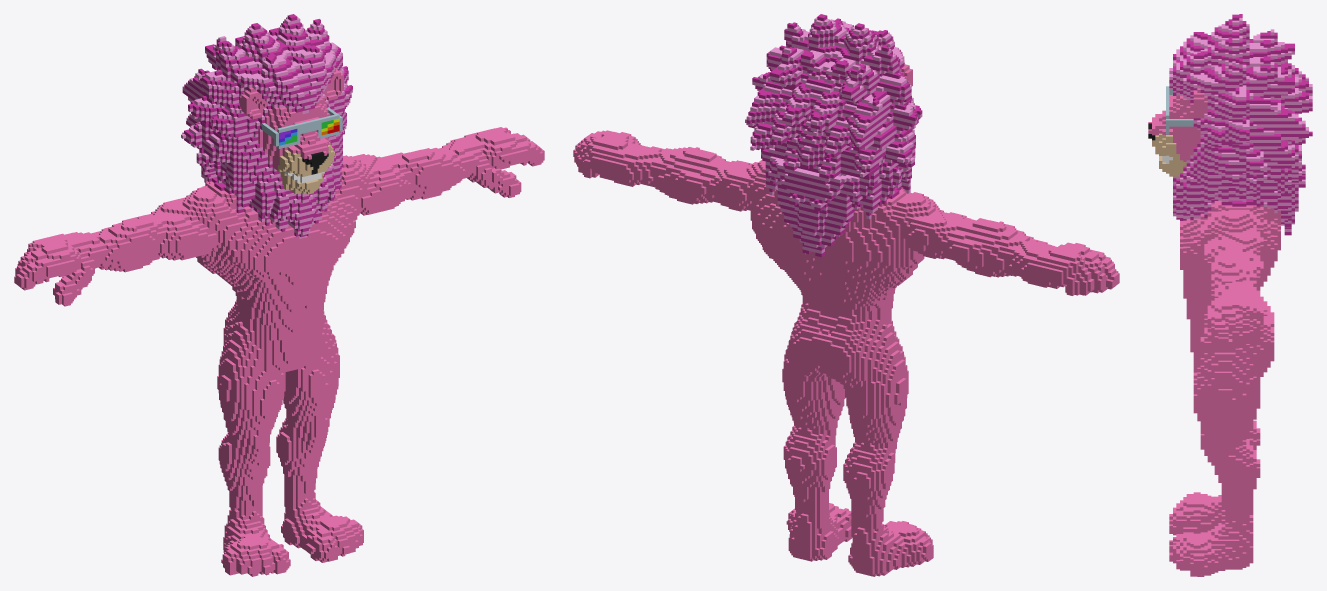
File: 4-BBtLGNVO.glb
3 views of the same model, side by side, from view 1: azimuth 30°, elevation 25°; view 2: azimuth 150°, elevation 25°; view 3: azimuth 270°, elevation 25° (orthographic). The views are drawn at different scales.
Parts seen in each view (by area): view 1: big_smile; view 2: big_smile; view 3: big_smile.
Boxes of the visible parts, bbox=[...] form: big_smile: bbox=[14, 14, 544, 576]; big_smile: bbox=[573, 14, 1119, 576]; big_smile: bbox=[1148, 14, 1312, 576].
Size of the model in its own units: 17.2 by 16.5 by 4.7.
Materials: 4 (4 with a texture image).
